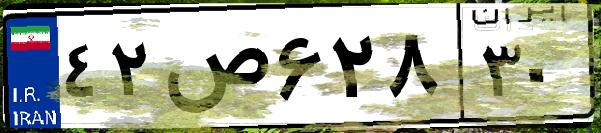0: (525, 38, 570, 115)
2: (330, 28, 385, 110), (110, 28, 158, 98)
3: (475, 38, 525, 113)
4: (57, 26, 110, 100)
6: (270, 28, 330, 110)
8: (385, 28, 445, 110)
ص: (158, 20, 270, 120)
